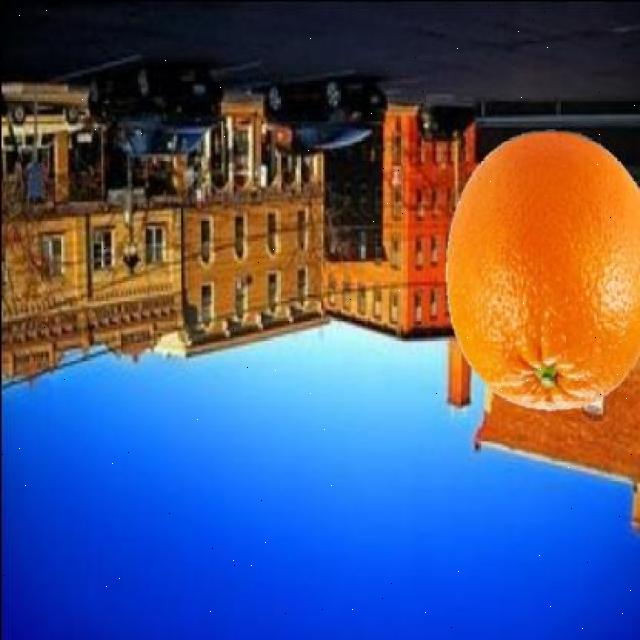Orange: (442, 128, 638, 412)
